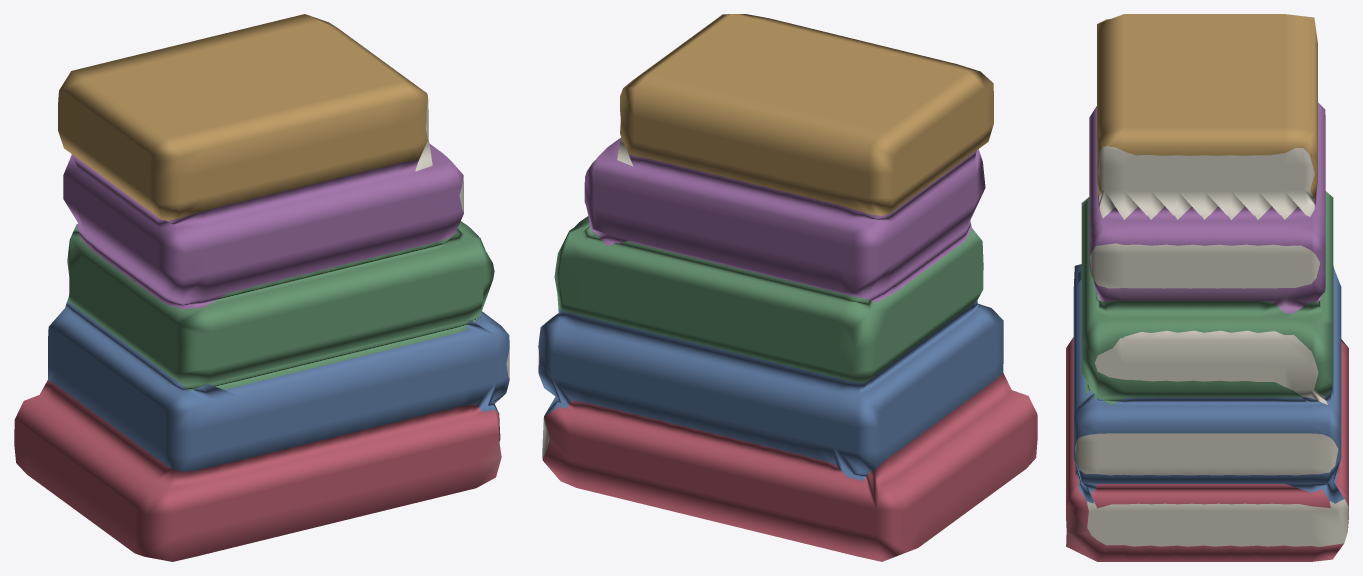
Rendered from books.glb.
3 views of the same model, side by side, from view 1: azimuth 30°, elevation 25°; view 2: azimuth 150°, elevation 25°; view 3: azimuth 270°, elevation 25° (orthographic).
Parts seen in each view (by area): view 1: books; view 2: books; view 3: books.
Part boxes in pixels (bbox=[...]): books: bbox=[14, 14, 509, 561]; books: bbox=[538, 14, 1037, 561]; books: bbox=[1066, 14, 1348, 561].
Bounding box in the file's own units: 32.8 × 34.4 × 22.
